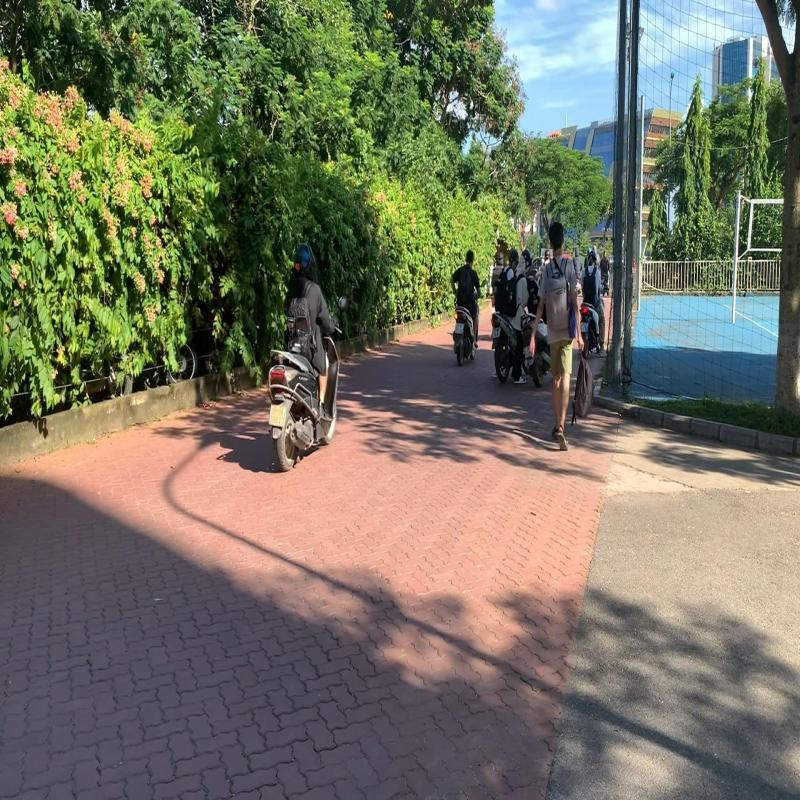helmet: (293, 241, 317, 275)
licenseplate: (269, 403, 287, 428), (454, 322, 465, 335)
motorcyclist: (264, 239, 351, 476), (449, 247, 488, 370)
nohelmet: (465, 250, 475, 264)
